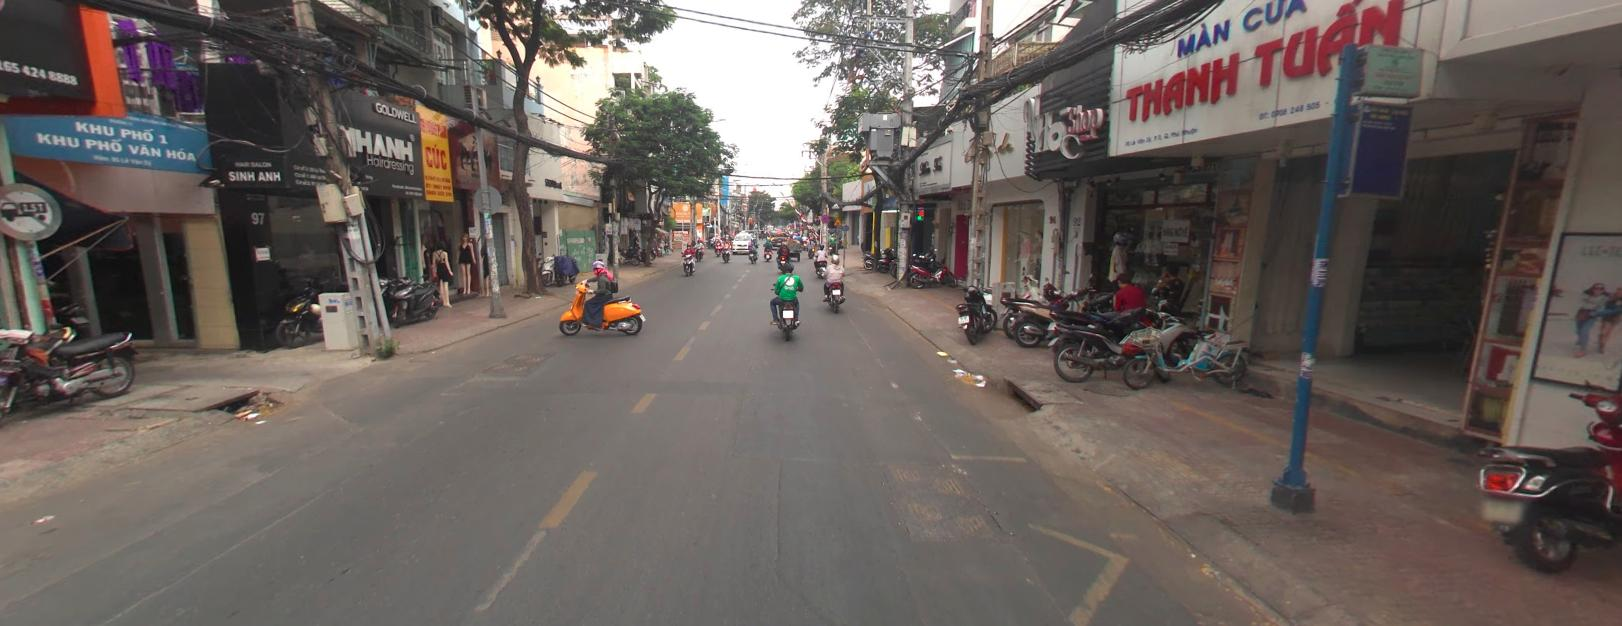Cam dung va do: (821, 213, 829, 221)
Nguy hiem: (832, 216, 842, 223)
